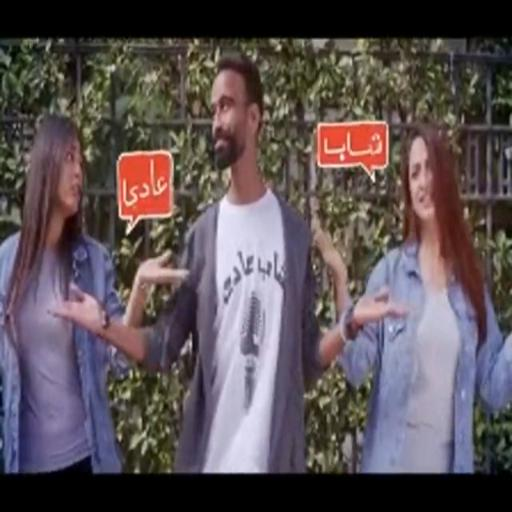nao-violencia: (42, 11, 510, 472), (2, 44, 414, 472)
